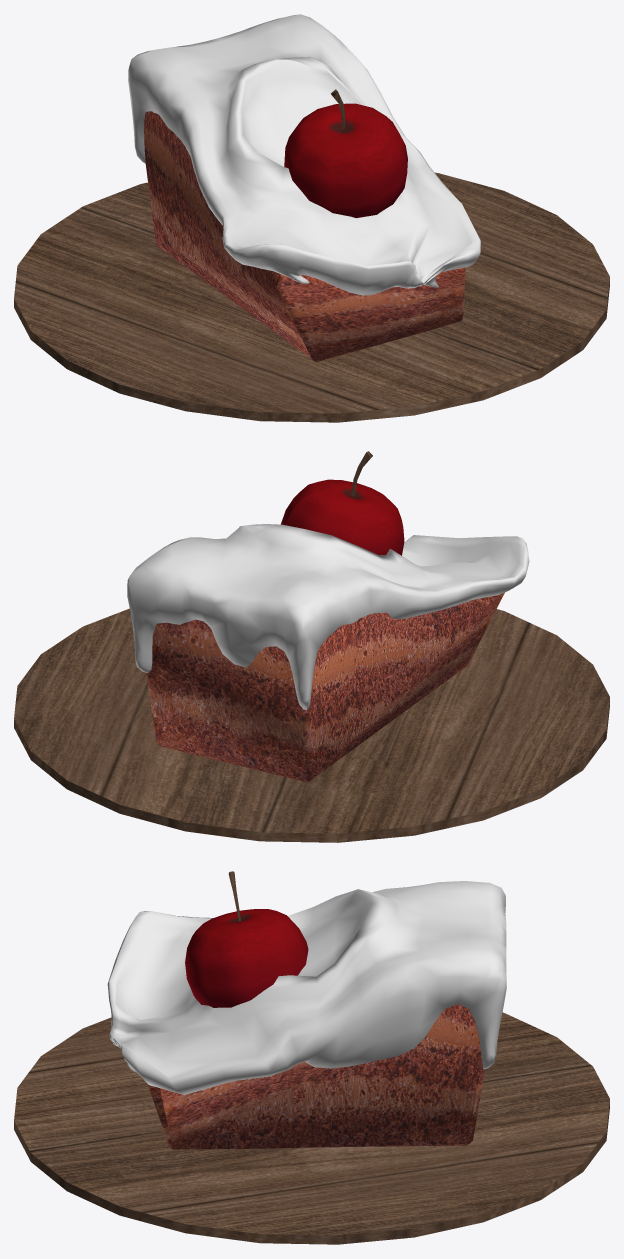
File: cakeBroken.fbx
3 renders of one model, top to bottom at view 1: azimuth 30°, elevation 25°; view 2: azimuth 150°, elevation 25°; view 3: azimuth 270°, elevation 25°, orthographic.
Parts seen in each view (by area): view 1: 3DSMeshMatrix, 3DSMeshMatrix.002, 3DSMeshMatrix.001, 3DSMeshMatrix.004; view 2: 3DSMeshMatrix, 3DSMeshMatrix.002, 3DSMeshMatrix.001, 3DSMeshMatrix.004; view 3: 3DSMeshMatrix, 3DSMeshMatrix.002, 3DSMeshMatrix.001, 3DSMeshMatrix.004.
Part boxes in pixels (bbox=[...]): 3DSMeshMatrix: bbox=[14, 172, 609, 422]; 3DSMeshMatrix.002: bbox=[128, 14, 480, 295]; 3DSMeshMatrix.001: bbox=[144, 111, 465, 362]; 3DSMeshMatrix.004: bbox=[284, 103, 407, 218]; 3DSMeshMatrix: bbox=[14, 608, 609, 842]; 3DSMeshMatrix.002: bbox=[127, 524, 529, 709]; 3DSMeshMatrix.001: bbox=[146, 592, 504, 782]; 3DSMeshMatrix.004: bbox=[281, 479, 404, 555]; 3DSMeshMatrix: bbox=[14, 1012, 609, 1244]; 3DSMeshMatrix.002: bbox=[107, 881, 506, 1094]; 3DSMeshMatrix.001: bbox=[148, 1004, 485, 1149]; 3DSMeshMatrix.004: bbox=[185, 909, 308, 1007].
Bounding box in the file's own units: 120 × 53.11 × 120.
